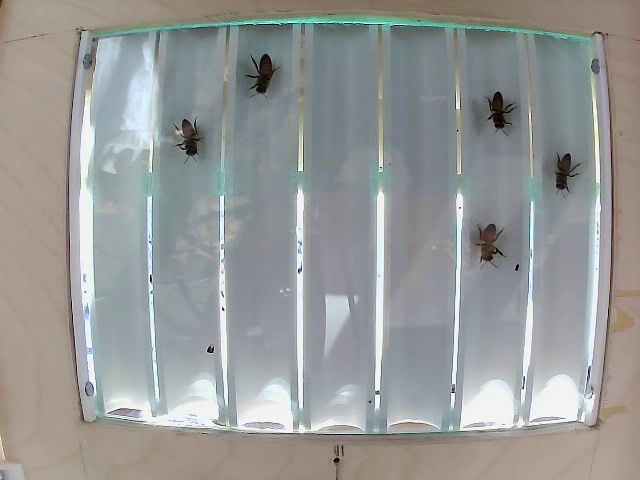bee: (175, 113, 213, 159), (491, 87, 525, 135), (541, 160, 577, 203), (461, 226, 492, 268), (249, 54, 285, 89)
